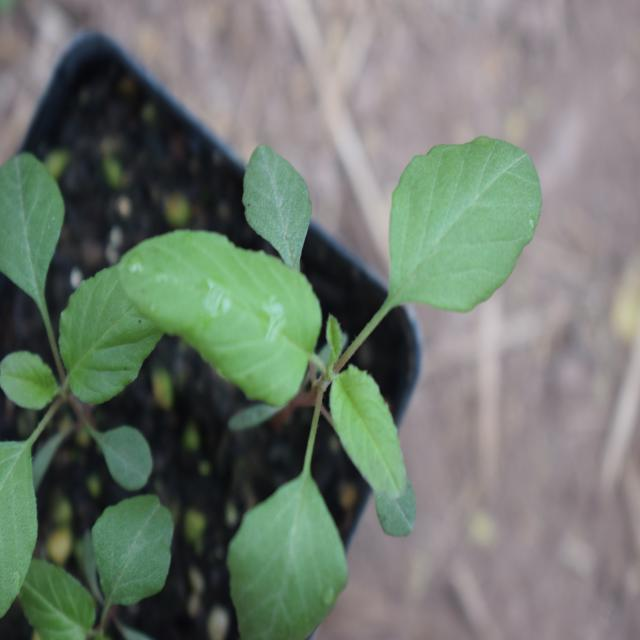pigweed: (131, 119, 535, 594)
